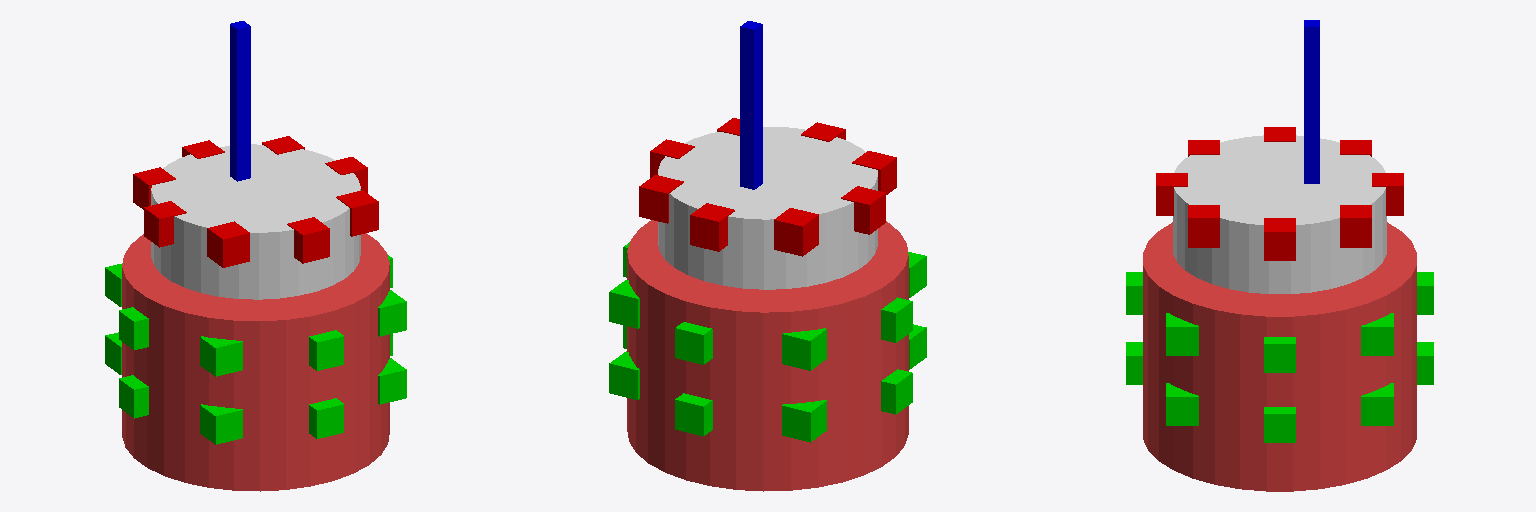
URDF robot description (random_bottle):
<?xml version="1.0"?>
<robot name="random_bottle">

  <!-- Define the cap link -->
  <link name="link1">
    <visual>
      <geometry>
        <mesh filename="cap.obj" scale="1.0 1.0 1.0"/>
      </geometry>
       <material name="white">
        <color rgba=".9 .9 .9 1"/>
      </material>

    </visual>
    <collision>
      <geometry>
        <mesh filename="cap.obj" scale="1.0 1.0 1.0"/>
      </geometry>
    </collision>

    <inertial>
      <mass value="0.016581879901249708"/> <!-- You can adjust the mass as needed -->
      <origin rpy="0 0 0" xyz="0 0 0"/>
      <inertia ixx="5.351216587857323e-06" ixy="0.0" ixz="0.0" iyy="5.351216587857323e-06" iyz="0.0" izz="9.191133733561997e-06"/>
    </inertial>
  </link>

    <link name="l10">
    <visual>
      <geometry>
        <box size="0.01 0.01 0.01"/>
      </geometry>

      <material name="red">
        <color rgba="0.9 0.0 0.0 1"/>
      </material>

    </visual>

    <inertial>
      <mass value="0.0001"/> <!-- You can adjust the mass as needed -->
      <origin rpy="0 0 0" xyz="0 0 -0.00"/> <!-- Offset by half of link1's height + 0.03m for the margin -->
      <inertia ixx="0.000000003" ixy="0.0" ixz="0.0" iyy="0.0000003" iyz="0.0" izz="0.00000003"/>
    </inertial>

  </link>
  <link name="l11">
    <visual>
      <geometry>
        <box size="0.01 0.01 0.01"/>
      </geometry>

      <material name="red">
        <color rgba="0.9 0.0 0.0 1"/>
      </material>

    </visual>

    <inertial>
      <mass value="0.0001"/> <!-- You can adjust the mass as needed -->
      <origin rpy="0 0 0" xyz="0 0 -0.00"/> <!-- Offset by half of link1's height + 0.03m for the margin -->
      <inertia ixx="0.000000003" ixy="0.0" ixz="0.0" iyy="0.0000003" iyz="0.0" izz="0.00000003"/>
    </inertial>

  </link>
  <link name="l12">
    <visual>
      <geometry>
        <box size="0.01 0.01 0.01"/>
      </geometry>

      <material name="red">
        <color rgba="0.9 0.0 0.0 1"/>
      </material>

    </visual>

    <inertial>
      <mass value="0.0001"/> <!-- You can adjust the mass as needed -->
      <origin rpy="0 0 0" xyz="0 0 -0.00"/> <!-- Offset by half of link1's height + 0.03m for the margin -->
      <inertia ixx="0.000000003" ixy="0.0" ixz="0.0" iyy="0.0000003" iyz="0.0" izz="0.00000003"/>
    </inertial>

  </link>
  <link name="l13">
    <visual>
      <geometry>
        <box size="0.01 0.01 0.01"/>
      </geometry>

      <material name="red">
        <color rgba="0.9 0.0 0.0 1"/>
      </material>

    </visual>

    <inertial>
      <mass value="0.0001"/> <!-- You can adjust the mass as needed -->
      <origin rpy="0 0 0" xyz="0 0 -0.00"/> <!-- Offset by half of link1's height + 0.03m for the margin -->
      <inertia ixx="0.000000003" ixy="0.0" ixz="0.0" iyy="0.0000003" iyz="0.0" izz="0.00000003"/>
    </inertial>

  </link>
  <link name="l10b">
    <visual>
      <geometry>
        <box size="0.01 0.01 0.01"/>
      </geometry>

      <material name="red">
        <color rgba="0.9 0.0 0.0 1"/>
      </material>

    </visual>

    <inertial>
      <mass value="0.0001"/> <!-- You can adjust the mass as needed -->
      <origin rpy="0 0 0" xyz="0 0 -0.00"/> <!-- Offset by half of link1's height + 0.03m for the margin -->
      <inertia ixx="0.000000003" ixy="0.0" ixz="0.0" iyy="0.0000003" iyz="0.0" izz="0.00000003"/>
    </inertial>

  </link>
  <link name="l11b">
    <visual>
      <geometry>
        <box size="0.01 0.01 0.01"/>
      </geometry>

      <material name="red">
        <color rgba="0.9 0.0 0.0 1"/>
      </material>

    </visual>

    <inertial>
      <mass value="0.0001"/> <!-- You can adjust the mass as needed -->
      <origin rpy="0 0 0" xyz="0 0 -0.00"/> <!-- Offset by half of link1's height + 0.03m for the margin -->
      <inertia ixx="0.000000003" ixy="0.0" ixz="0.0" iyy="0.0000003" iyz="0.0" izz="0.00000003"/>
    </inertial>

  </link>
  <link name="l12b">
    <visual>
      <geometry>
        <box size="0.01 0.01 0.01"/>
      </geometry>

      <material name="red">
        <color rgba="0.9 0.0 0.0 1"/>
      </material>

    </visual>

    <inertial>
      <mass value="0.0001"/> <!-- You can adjust the mass as needed -->
      <origin rpy="0 0 0" xyz="0 0 -0.00"/> <!-- Offset by half of link1's height + 0.03m for the margin -->
      <inertia ixx="0.000000003" ixy="0.0" ixz="0.0" iyy="0.0000003" iyz="0.0" izz="0.00000003"/>
    </inertial>

  </link>
  <link name="l13b">
    <visual>
      <geometry>
        <box size="0.01 0.01 0.01"/>
      </geometry>

      <material name="red">
        <color rgba="0.9 0.0 0.0 1"/>
      </material>

    </visual>

    <inertial>
      <mass value="0.0001"/> <!-- You can adjust the mass as needed -->
      <origin rpy="0 0 0" xyz="0 0 -0.00"/> <!-- Offset by half of link1's height + 0.03m for the margin -->
      <inertia ixx="0.000000003" ixy="0.0" ixz="0.0" iyy="0.0000003" iyz="0.0" izz="0.00000003"/>
    </inertial>

  </link>
  <link name="l20">
    <visual>
      <geometry>
        <box size="0.01 0.01 0.01"/>
      </geometry>

      <material name="red">
        <color rgba="0.0 0.9 0.0 1"/>
      </material>

    </visual>

    <inertial>
      <mass value="0.0001"/> <!-- You can adjust the mass as needed -->
      <origin rpy="0 0 0" xyz="0 0 -0.00"/> <!-- Offset by half of link1's height + 0.03m for the margin -->
      <inertia ixx="0.000000003" ixy="0.0" ixz="0.0" iyy="0.0000003" iyz="0.0" izz="0.00000003"/>
    </inertial>

  </link>
  <link name="l21">
    <visual>
      <geometry>
        <box size="0.01 0.01 0.01"/>
      </geometry>

      <material name="red">
        <color rgba="0.0 0.9 0.0 1"/>
      </material>

    </visual>

    <inertial>
      <mass value="0.0001"/> <!-- You can adjust the mass as needed -->
      <origin rpy="0 0 0" xyz="0 0 -0.00"/> <!-- Offset by half of link1's height + 0.03m for the margin -->
      <inertia ixx="0.000000003" ixy="0.0" ixz="0.0" iyy="0.0000003" iyz="0.0" izz="0.00000003"/>
    </inertial>

  </link>
  <link name="l22">
    <visual>
      <geometry>
        <box size="0.01 0.01 0.01"/>
      </geometry>

      <material name="red">
        <color rgba="0.0 0.9 0.0 1"/>
      </material>

    </visual>

    <inertial>
      <mass value="0.0001"/> <!-- You can adjust the mass as needed -->
      <origin rpy="0 0 0" xyz="0 0 -0.00"/> <!-- Offset by half of link1's height + 0.03m for the margin -->
      <inertia ixx="0.000000003" ixy="0.0" ixz="0.0" iyy="0.0000003" iyz="0.0" izz="0.00000003"/>
    </inertial>

  </link>
  <link name="l23">
    <visual>
      <geometry>
        <box size="0.01 0.01 0.01"/>
      </geometry>

      <material name="red">
        <color rgba="0.0 0.9 0.0 1"/>
      </material>

    </visual>

    <inertial>
      <mass value="0.0001"/> <!-- You can adjust the mass as needed -->
      <origin rpy="0 0 0" xyz="0 0 -0.00"/> <!-- Offset by half of link1's height + 0.03m for the margin -->
      <inertia ixx="0.000000003" ixy="0.0" ixz="0.0" iyy="0.0000003" iyz="0.0" izz="0.00000003"/>
    </inertial>

  </link>
  <link name="l24">
    <visual>
      <geometry>
        <box size="0.01 0.01 0.01"/>
      </geometry>

      <material name="red">
        <color rgba="0.0 0.9 0.0 1"/>
      </material>

    </visual>

    <inertial>
      <mass value="0.0001"/> <!-- You can adjust the mass as needed -->
      <origin rpy="0 0 0" xyz="0 0 -0.00"/> <!-- Offset by half of link1's height + 0.03m for the margin -->
      <inertia ixx="0.000000003" ixy="0.0" ixz="0.0" iyy="0.0000003" iyz="0.0" izz="0.00000003"/>
    </inertial>

  </link>
  <link name="l25">
    <visual>
      <geometry>
        <box size="0.01 0.01 0.01"/>
      </geometry>

      <material name="red">
        <color rgba="0.0 0.9 0.0 1"/>
      </material>

    </visual>

    <inertial>
      <mass value="0.0001"/> <!-- You can adjust the mass as needed -->
      <origin rpy="0 0 0" xyz="0 0 -0.00"/> <!-- Offset by half of link1's height + 0.03m for the margin -->
      <inertia ixx="0.000000003" ixy="0.0" ixz="0.0" iyy="0.0000003" iyz="0.0" izz="0.00000003"/>
    </inertial>

  </link>
  <link name="l26">
    <visual>
      <geometry>
        <box size="0.01 0.01 0.01"/>
      </geometry>

      <material name="red">
        <color rgba="0.0 0.9 0.0 1"/>
      </material>

    </visual>

    <inertial>
      <mass value="0.0001"/> <!-- You can adjust the mass as needed -->
      <origin rpy="0 0 0" xyz="0 0 -0.00"/> <!-- Offset by half of link1's height + 0.03m for the margin -->
      <inertia ixx="0.000000003" ixy="0.0" ixz="0.0" iyy="0.0000003" iyz="0.0" izz="0.00000003"/>
    </inertial>

  </link>
  <link name="l27">
    <visual>
      <geometry>
        <box size="0.01 0.01 0.01"/>
      </geometry>

      <material name="red">
        <color rgba="0.0 0.9 0.0 1"/>
      </material>

    </visual>

    <inertial>
      <mass value="0.0001"/> <!-- You can adjust the mass as needed -->
      <origin rpy="0 0 0" xyz="0 0 -0.00"/> <!-- Offset by half of link1's height + 0.03m for the margin -->
      <inertia ixx="0.000000003" ixy="0.0" ixz="0.0" iyy="0.0000003" iyz="0.0" izz="0.00000003"/>
    </inertial>

  </link>
  <link name="l30">
    <visual>
      <geometry>
        <box size="0.01 0.01 0.01"/>
      </geometry>

      <material name="red">
        <color rgba="0.0 0.9 0.0 1"/>
      </material>

    </visual>

    <inertial>
      <mass value="0.0001"/> <!-- You can adjust the mass as needed -->
      <origin rpy="0 0 0" xyz="0 0 -0.00"/> <!-- Offset by half of link1's height + 0.03m for the margin -->
      <inertia ixx="0.000000003" ixy="0.0" ixz="0.0" iyy="0.0000003" iyz="0.0" izz="0.00000003"/>
    </inertial>

  </link>
  <link name="l31">
    <visual>
      <geometry>
        <box size="0.01 0.01 0.01"/>
      </geometry>

      <material name="red">
        <color rgba="0.0 0.9 0.0 1"/>
      </material>

    </visual>

    <inertial>
      <mass value="0.0001"/> <!-- You can adjust the mass as needed -->
      <origin rpy="0 0 0" xyz="0 0 -0.00"/> <!-- Offset by half of link1's height + 0.03m for the margin -->
      <inertia ixx="0.000000003" ixy="0.0" ixz="0.0" iyy="0.0000003" iyz="0.0" izz="0.00000003"/>
    </inertial>

  </link>
  <link name="l32">
    <visual>
      <geometry>
        <box size="0.01 0.01 0.01"/>
      </geometry>

      <material name="red">
        <color rgba="0.0 0.9 0.0 1"/>
      </material>

    </visual>

    <inertial>
      <mass value="0.0001"/> <!-- You can adjust the mass as needed -->
      <origin rpy="0 0 0" xyz="0 0 -0.00"/> <!-- Offset by half of link1's height + 0.03m for the margin -->
      <inertia ixx="0.000000003" ixy="0.0" ixz="0.0" iyy="0.0000003" iyz="0.0" izz="0.00000003"/>
    </inertial>

  </link>
  <link name="l33">
    <visual>
      <geometry>
        <box size="0.01 0.01 0.01"/>
      </geometry>

      <material name="red">
        <color rgba="0.0 0.9 0.0 1"/>
      </material>

    </visual>

    <inertial>
      <mass value="0.0001"/> <!-- You can adjust the mass as needed -->
      <origin rpy="0 0 0" xyz="0 0 -0.00"/> <!-- Offset by half of link1's height + 0.03m for the margin -->
      <inertia ixx="0.000000003" ixy="0.0" ixz="0.0" iyy="0.0000003" iyz="0.0" izz="0.00000003"/>
    </inertial>

  </link>
  <link name="l34">
    <visual>
      <geometry>
        <box size="0.01 0.01 0.01"/>
      </geometry>

      <material name="red">
        <color rgba="0.0 0.9 0.0 1"/>
      </material>

    </visual>

    <inertial>
      <mass value="0.0001"/> <!-- You can adjust the mass as needed -->
      <origin rpy="0 0 0" xyz="0 0 -0.00"/> <!-- Offset by half of link1's height + 0.03m for the margin -->
      <inertia ixx="0.000000003" ixy="0.0" ixz="0.0" iyy="0.0000003" iyz="0.0" izz="0.00000003"/>
    </inertial>

  </link>
  <link name="l35">
    <visual>
      <geometry>
        <box size="0.01 0.01 0.01"/>
      </geometry>

      <material name="red">
        <color rgba="0.0 0.9 0.0 1"/>
      </material>

    </visual>

    <inertial>
      <mass value="0.0001"/> <!-- You can adjust the mass as needed -->
      <origin rpy="0 0 0" xyz="0 0 -0.00"/> <!-- Offset by half of link1's height + 0.03m for the margin -->
      <inertia ixx="0.000000003" ixy="0.0" ixz="0.0" iyy="0.0000003" iyz="0.0" izz="0.00000003"/>
    </inertial>

  </link>
  <link name="l36">
    <visual>
      <geometry>
        <box size="0.01 0.01 0.01"/>
      </geometry>

      <material name="red">
        <color rgba="0.0 0.9 0.0 1"/>
      </material>

    </visual>

    <inertial>
      <mass value="0.0001"/> <!-- You can adjust the mass as needed -->
      <origin rpy="0 0 0" xyz="0 0 -0.00"/> <!-- Offset by half of link1's height + 0.03m for the margin -->
      <inertia ixx="0.000000003" ixy="0.0" ixz="0.0" iyy="0.0000003" iyz="0.0" izz="0.00000003"/>
    </inertial>

  </link>
  <link name="l37">
    <visual>
      <geometry>
        <box size="0.01 0.01 0.01"/>
      </geometry>

      <material name="red">
        <color rgba="0.0 0.9 0.0 1"/>
      </material>

    </visual>

    <inertial>
      <mass value="0.0001"/> <!-- You can adjust the mass as needed -->
      <origin rpy="0 0 0" xyz="0 0 -0.00"/> <!-- Offset by half of link1's height + 0.03m for the margin -->
      <inertia ixx="0.000000003" ixy="0.0" ixz="0.0" iyy="0.0000003" iyz="0.0" izz="0.00000003"/>
    </inertial>

  </link>


  <link name="hint">
    <visual>
      <geometry>
        <box size="0.005 0.005 0.07"/> <!-- 9cm x 9cm x 6cm -->
      </geometry>
       <material name="blue">
        <color rgba=".0 .0 .9 1"/>
      </material>
    </visual>

    <inertial>
      <mass value="0.0001"/> <!-- You can adjust the mass as needed -->
      <origin rpy="0 0 0" xyz="0 0 -0.00"/> <!-- Offset by half of link1's height + 0.03m for the margin -->
      <inertia ixx="0.000000003" ixy="0.0" ixz="0.0" iyy="0.0000003" iyz="0.0" izz="0.00000003"/>
    </inertial>


  </link>

  <!-- Define the base link -->
  <link name="link2">
    <visual>
      <geometry>
        <mesh filename="base.obj" scale="1.0 1.0 1.0"/>
      </geometry>
      <material name="red">
        <color rgba=".9 .3 .3 1"/>
      </material>

    </visual>

    <collision>
      <geometry>
        <mesh filename="base.obj" scale="1.0 1.0 1.0"/>
      </geometry>
    </collision>

    <inertial>
      <mass value="0.045906382027212485"/> <!-- You can adjust the mass as needed -->
      <origin rpy="0 0 0" xyz="0 0 -0.00"/> <!-- Offset by half of link1's height + 0.03m for the margin -->
      <inertia ixx="3.435687755268801e-05" ixy="0.0" ixz="0.0" iyy="3.435687755268801e-05" iyz="0.0" izz="4.152791031945443e-05"/>
    </inertial>
  </link>



  <link name="brake">
   <visual>
      <geometry>
        <box size="0.02 0.02 0.005"/> <!-- 6cm x 6cm x 2cm -->
      </geometry>
       <material name="gray">
        <color rgba=".5 .5 .5 1"/>
      </material>

    </visual>
    <collision>
      <geometry>
        <box size="0.02 0.02 0.005"/> <!-- 6cm x 6cm x 2cm -->
      </geometry>
    </collision>

    <inertial>
      <mass value="0.005"/> <!-- You can adjust the mass as needed -->
      <origin rpy="0 0 0" xyz="0 0 0"/>
      <inertia ixx="0.00018" ixy="0.0" ixz="0.0" iyy="0.00018" iyz="0.0" izz="0.00018"/>
    </inertial>
  </link>

  <!-- Define the joint connecting link1 and link2 as a revolute joint along z-axis -->
  <joint name="fix_joint" type="fixed">
    <parent link="link1"/>
    <child link="hint"/>
    <origin rpy="0 0 0" xyz="0 0.01 0.03"/> <!-- Offset by half of link1's height for the margin -->
    <axis xyz="0 0 1"/>
  </joint>

  <!-- Define the joint connecting link1 and link2 as a revolute joint along z-axis -->
  <joint name="brake_joint" type="prismatic">
    <parent link="link2"/>
    <child link="brake"/>
    <origin rpy="0 0 0" xyz="0 0 0.053189227384533896"/> <!-- Offset by half of link1's height for the margin -->
    <axis xyz="0 0 1"/>
    <limit lower="-0.02" upper="0.02" />
    <!-- <dynamics damping="0.0" friction="0.0"/> -->
  </joint>


  <joint name="b_joint" type="revolute">
    <parent link="link2"/>
    <child link="link1"/>
    <origin rpy="0 0 0" xyz="0 0 0.04480440888205174"/> <!-- Offset by half of link1's height for the margin -->
    <axis xyz="0 0 1"/>
    <!-- No joint limits -->
    <dynamics damping="0.0" friction="0.0"/>
  </joint>


  <!-- marker -->
    <joint name="jl10" type="fixed">
    <parent link="link1"/>
    <child link="l10"/>
    <origin rpy="0 0 0" xyz="0.0 0.03329527895047696 0.007015445550744646"/> <!-- Offset by half of link1's height for the margin -->
    <axis xyz="0 0 1"/>
  </joint>
  <joint name="jl11" type="fixed">
    <parent link="link1"/>
    <child link="l11"/>
    <origin rpy="0 0 0" xyz="0.023543317211959593 0.023543317842800348 0.007015445550744646"/> <!-- Offset by half of link1's height for the margin -->
    <axis xyz="0 0 1"/>
  </joint>
  <joint name="jl12" type="fixed">
    <parent link="link1"/>
    <child link="l12"/>
    <origin rpy="0 0 0" xyz="0.033295278950476945 8.921435562477108e-10 0.007015445550744646"/> <!-- Offset by half of link1's height for the margin -->
    <axis xyz="0 0 1"/>
  </joint>
  <joint name="jl13" type="fixed">
    <parent link="link1"/>
    <child link="l13"/>
    <origin rpy="0 0 0" xyz="0.023543318473641085 -0.023543316581118818 0.007015445550744646"/> <!-- Offset by half of link1's height for the margin -->
    <axis xyz="0 0 1"/>
  </joint>
  <joint name="jl10b" type="fixed">
    <parent link="link1"/>
    <child link="l10b"/>
    <origin rpy="0 0 0" xyz="1.7842871124954209e-09 -0.03329527895047691 0.007015445550744646"/> <!-- Offset by half of link1's height for the margin -->
    <axis xyz="0 0 1"/>
  </joint>
  <joint name="jl11b" type="fixed">
    <parent link="link1"/>
    <child link="l11b"/>
    <origin rpy="0 0 0" xyz="-0.02354331595027802 -0.023543319104481823 0.007015445550744646"/> <!-- Offset by half of link1's height for the margin -->
    <axis xyz="0 0 1"/>
  </joint>
  <joint name="jl12b" type="fixed">
    <parent link="link1"/>
    <child link="l12b"/>
    <origin rpy="0 0 0" xyz="-0.033295278950476855 -2.6764306539570557e-09 0.007015445550744646"/> <!-- Offset by half of link1's height for the margin -->
    <axis xyz="0 0 1"/>
  </joint>
  <joint name="jl13b" type="fixed">
    <parent link="link1"/>
    <child link="l13b"/>
    <origin rpy="0 0 0" xyz="-0.023543319735322518 0.023543315319437222 0.007015445550744646"/> <!-- Offset by half of link1's height for the margin -->
    <axis xyz="0 0 1"/>
  </joint>
  <joint name="jl20" type="fixed">
    <parent link="link2"/>
    <child link="l20"/>
    <origin rpy="0 0 0" xyz="0.0 0.04253520238840767 0.017882645329231044"/> <!-- Offset by half of link1's height for the margin -->
    <axis xyz="0 0 1"/>
  </joint>
  <joint name="jl21" type="fixed">
    <parent link="link2"/>
    <child link="l21"/>
    <origin rpy="0 0 0" xyz="0.03007692964503118 0.030076930450939406 0.017882645329231044"/> <!-- Offset by half of link1's height for the margin -->
    <axis xyz="0 0 1"/>
  </joint>
  <joint name="jl22" type="fixed">
    <parent link="link2"/>
    <child link="l22"/>
    <origin rpy="0 0 0" xyz="0.042535202388407654 1.1397263492206464e-09 0.017882645329231044"/> <!-- Offset by half of link1's height for the margin -->
    <axis xyz="0 0 1"/>
  </joint>
  <joint name="jl23" type="fixed">
    <parent link="link2"/>
    <child link="l23"/>
    <origin rpy="0 0 0" xyz="0.030076931256847607 -0.03007692883912293 0.017882645329231044"/> <!-- Offset by half of link1's height for the margin -->
    <axis xyz="0 0 1"/>
  </joint>
  <joint name="jl24" type="fixed">
    <parent link="link2"/>
    <child link="l24"/>
    <origin rpy="0 0 0" xyz="2.279452698441292e-09 -0.042535202388407606 0.017882645329231044"/> <!-- Offset by half of link1's height for the margin -->
    <axis xyz="0 0 1"/>
  </joint>
  <joint name="jl25" type="fixed">
    <parent link="link2"/>
    <child link="l25"/>
    <origin rpy="0 0 0" xyz="-0.030076928033214646 -0.030076932062755808 0.017882645329231044"/> <!-- Offset by half of link1's height for the margin -->
    <axis xyz="0 0 1"/>
  </joint>
  <joint name="jl26" type="fixed">
    <parent link="link2"/>
    <child link="l26"/>
    <origin rpy="0 0 0" xyz="-0.04253520238840753 -3.4191790287725117e-09 0.017882645329231044"/> <!-- Offset by half of link1's height for the margin -->
    <axis xyz="0 0 1"/>
  </joint>
  <joint name="jl27" type="fixed">
    <parent link="link2"/>
    <child link="l27"/>
    <origin rpy="0 0 0" xyz="-0.03007693286866396 0.030076927227306365 0.017882645329231044"/> <!-- Offset by half of link1's height for the margin -->
    <axis xyz="0 0 1"/>
  </joint>
  <joint name="jl30" type="fixed">
    <parent link="link2"/>
    <child link="l30"/>
    <origin rpy="0 0 0" xyz="0.0 0.04253520238840767 -0.005960881776410349"/> <!-- Offset by half of link1's height for the margin -->
    <axis xyz="0 0 1"/>
  </joint>
  <joint name="jl31" type="fixed">
    <parent link="link2"/>
    <child link="l31"/>
    <origin rpy="0 0 0" xyz="0.03007692964503118 0.030076930450939406 -0.005960881776410349"/> <!-- Offset by half of link1's height for the margin -->
    <axis xyz="0 0 1"/>
  </joint>
  <joint name="jl32" type="fixed">
    <parent link="link2"/>
    <child link="l32"/>
    <origin rpy="0 0 0" xyz="0.042535202388407654 1.1397263492206464e-09 -0.005960881776410349"/> <!-- Offset by half of link1's height for the margin -->
    <axis xyz="0 0 1"/>
  </joint>
  <joint name="jl33" type="fixed">
    <parent link="link2"/>
    <child link="l33"/>
    <origin rpy="0 0 0" xyz="0.030076931256847607 -0.03007692883912293 -0.005960881776410349"/> <!-- Offset by half of link1's height for the margin -->
    <axis xyz="0 0 1"/>
  </joint>
  <joint name="jl34" type="fixed">
    <parent link="link2"/>
    <child link="l34"/>
    <origin rpy="0 0 0" xyz="2.279452698441292e-09 -0.042535202388407606 -0.005960881776410349"/> <!-- Offset by half of link1's height for the margin -->
    <axis xyz="0 0 1"/>
  </joint>
  <joint name="jl35" type="fixed">
    <parent link="link2"/>
    <child link="l35"/>
    <origin rpy="0 0 0" xyz="-0.030076928033214646 -0.030076932062755808 -0.005960881776410349"/> <!-- Offset by half of link1's height for the margin -->
    <axis xyz="0 0 1"/>
  </joint>
  <joint name="jl36" type="fixed">
    <parent link="link2"/>
    <child link="l36"/>
    <origin rpy="0 0 0" xyz="-0.04253520238840753 -3.4191790287725117e-09 -0.005960881776410349"/> <!-- Offset by half of link1's height for the margin -->
    <axis xyz="0 0 1"/>
  </joint>
  <joint name="jl37" type="fixed">
    <parent link="link2"/>
    <child link="l37"/>
    <origin rpy="0 0 0" xyz="-0.03007693286866396 0.030076927227306365 -0.005960881776410349"/> <!-- Offset by half of link1's height for the margin -->
    <axis xyz="0 0 1"/>
  </joint>



</robot>

--- Render facts (derived) ---
Views: 3 orthographic renders of the robot side by side, from view 1: azimuth 30°, elevation 25°; view 2: azimuth 150°, elevation 25°; view 3: azimuth 270°, elevation 25°.
Model random_bottle with 28 links and 27 joints (1 revolute, 1 prismatic, 25 fixed), rooted at link2, posed all joints at 0.
Links seen in each view (by area): view 1: link2, link1, hint, l11b, l10b, l25, l35, l12b, l13, l34, l24, l36 (+7 smaller); view 2: link2, link1, hint, l13b, l10, l37, l27, l12b, l30, l20, l11, l26 (+8 smaller); view 3: link2, link1, hint, l11, l12, l13, l31, l33, l21, l23, l22, l32 (+6 smaller).
Link boxes in pixels (x1,y1,x2,y2): link2: (122,233,389,491); link1: (151,144,360,299); hint: (230,21,250,181); l11b: (207,221,249,267); l10b: (287,217,329,263); l25: (200,336,242,376); l35: (200,404,242,444); l12b: (144,201,186,247); l13: (336,190,378,236); l34: (309,398,343,438); l24: (309,330,343,370); l36: (119,375,148,418); link2: (627,220,908,491); link1: (658,127,877,289); hint: (740,21,762,189); l13b: (774,208,818,256); l10: (690,203,734,251); l37: (782,400,826,442); l27: (782,328,826,370); l12b: (841,186,885,234); l30: (675,393,712,436); l20: (675,322,712,364); l11: (639,175,683,223); l26: (881,297,912,342); link2: (1143,222,1416,491); link1: (1173,135,1386,293); hint: (1304,20,1319,183); l11: (1340,205,1371,247); l12: (1264,218,1295,260); l13: (1188,205,1219,247); l31: (1361,383,1393,425); l33: (1166,383,1198,425); l21: (1361,313,1393,355); l23: (1166,313,1198,355); l22: (1264,337,1295,372); l32: (1264,407,1295,442).
Size in the robot's own frame: 0.0951 by 0.0951 by 0.1396 metres.
2 mesh visuals loaded from 2 distinct referenced files (2 OBJ).
